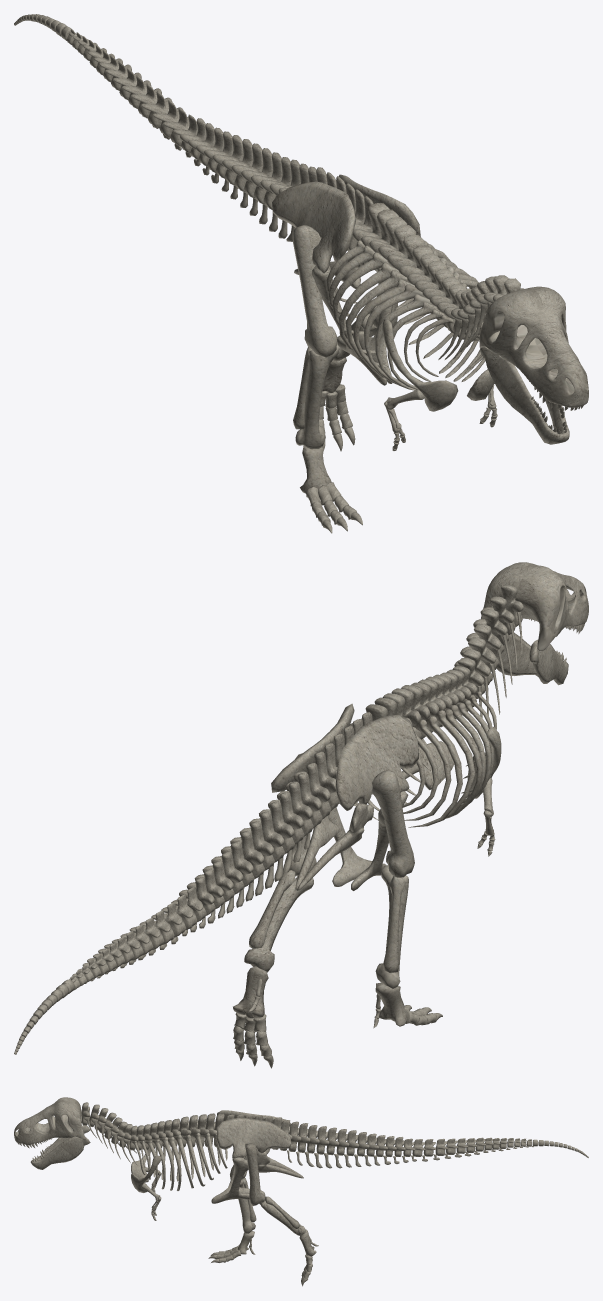
File: trex_standing.glb
3 renders of one model, top to bottom at view 1: azimuth 30°, elevation 25°; view 2: azimuth 150°, elevation 25°; view 3: azimuth 270°, elevation 25°, orthographic. The views are drawn at different scales.
Bounding box in the file's own units: 0.0646 × 0.161 × 0.4851.
1 material, 1 textured.
